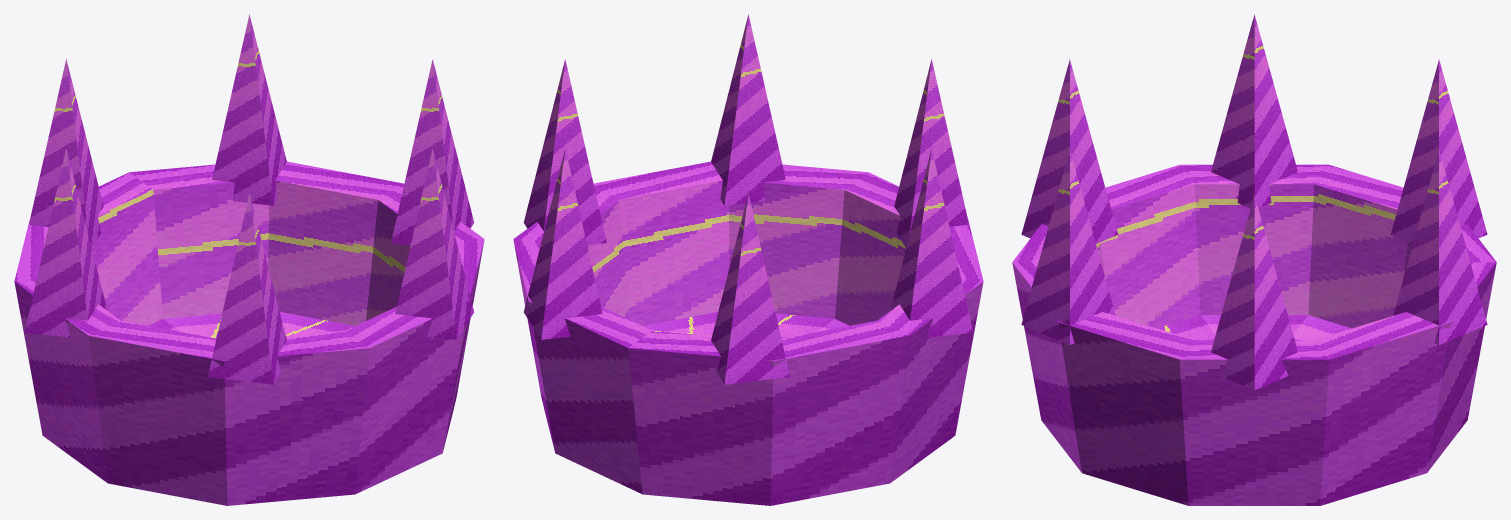
The model's file is reliquia_endgame_01_coroa_da_fenda.glb.
3 renders of one model, left to right at view 1: azimuth 30°, elevation 25°; view 2: azimuth 150°, elevation 25°; view 3: azimuth 270°, elevation 25°, orthographic.
Visible parts, largest first — view 1: reliquia_endgame_01_coroa_da_fenda; view 2: reliquia_endgame_01_coroa_da_fenda; view 3: reliquia_endgame_01_coroa_da_fenda.
Part boxes in pixels (left/top/right/bottom): reliquia_endgame_01_coroa_da_fenda: left=14, top=14, right=484, bottom=505; reliquia_endgame_01_coroa_da_fenda: left=513, top=14, right=983, bottom=505; reliquia_endgame_01_coroa_da_fenda: left=1012, top=14, right=1496, bottom=505.
Size of the model in its own units: 0.54 by 0.36 by 0.5.
1 material, 1 textured.
